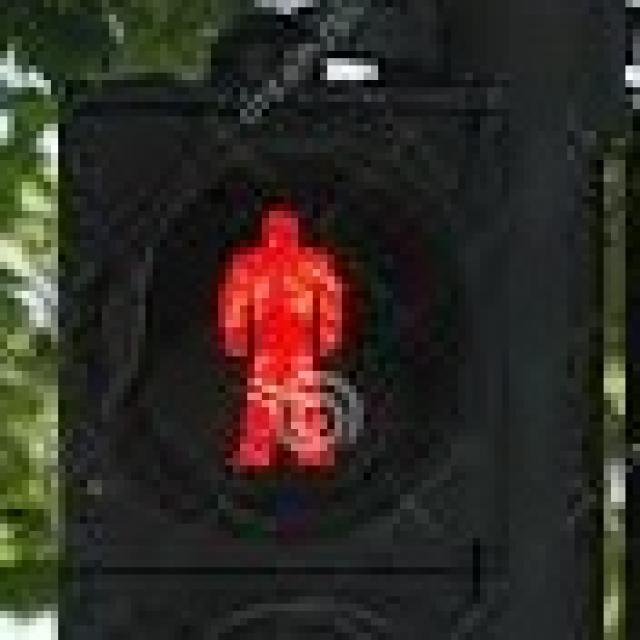red_light: (182, 175, 371, 488)
